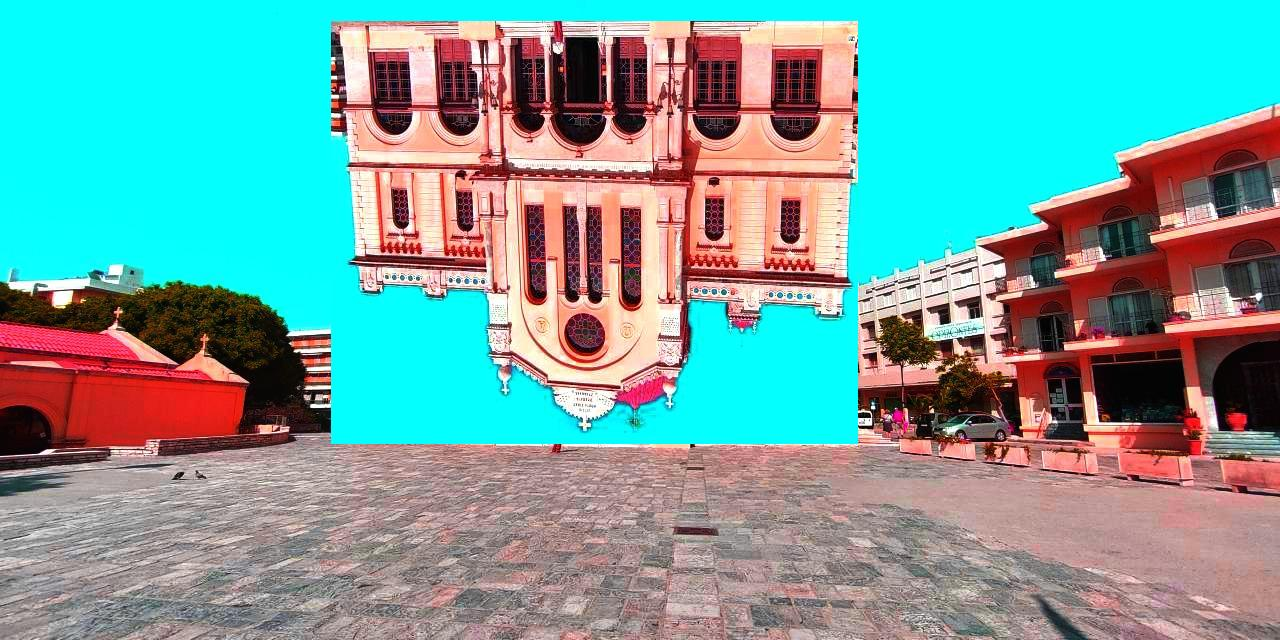Agios Minas: (332, 22, 859, 445)
